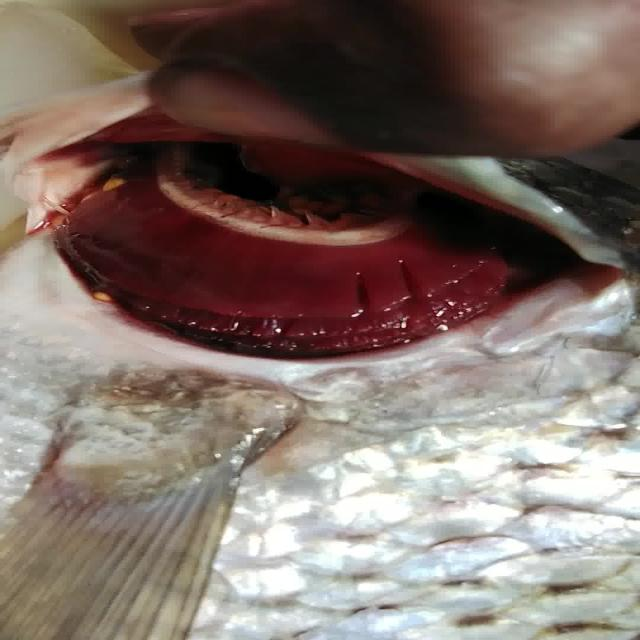Fresh: (59, 168, 569, 351)
